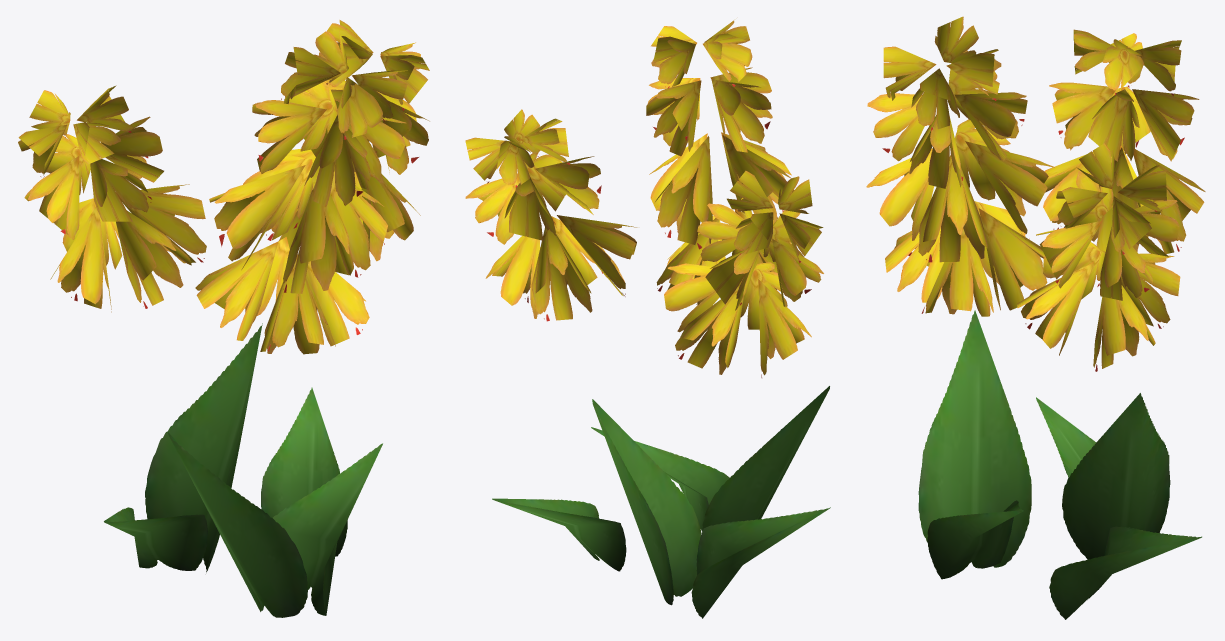
The model's file is Flower_4_Group.low.gltf.
3 renders of one model, left to right at view 1: azimuth 30°, elevation 25°; view 2: azimuth 150°, elevation 25°; view 3: azimuth 270°, elevation 25°, orthographic. The views are drawn at different scales.
Visible parts, largest first — view 1: Flower_4_Group; view 2: Flower_4_Group; view 3: Flower_4_Group.
Part boxes in pixels (x1=…): Flower_4_Group: x1=18, y1=20, x2=429, y2=617; Flower_4_Group: x1=465, y1=20, x2=830, y2=618; Flower_4_Group: x1=866, y1=16, x2=1205, y2=619.
Bounding box in the file's own units: 1.77 × 2.47 × 1.37.
2 materials, 2 textured.
